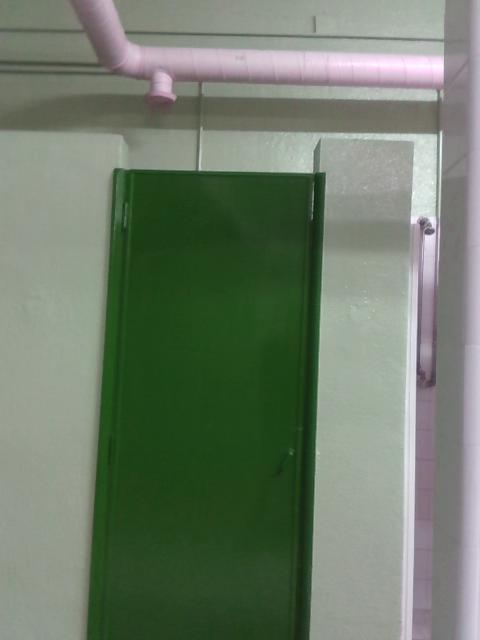closed_door: (86, 169, 320, 639)
